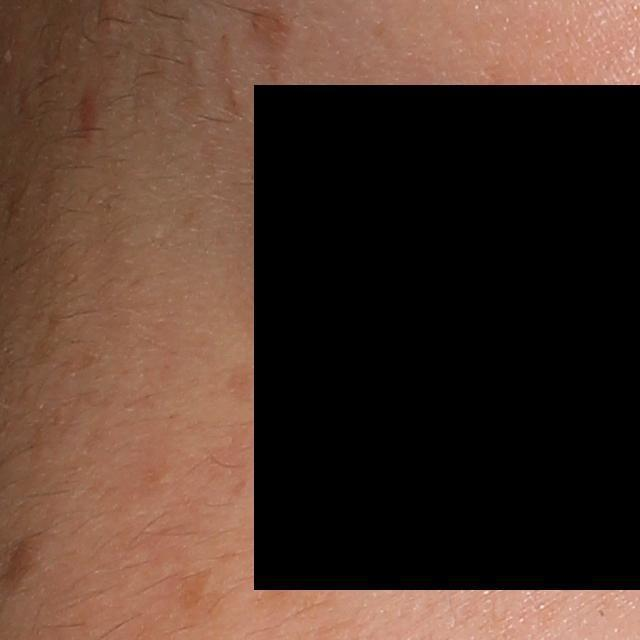melasma: (251, 564, 337, 623), (247, 7, 296, 64), (1, 534, 42, 597), (177, 565, 215, 625)
